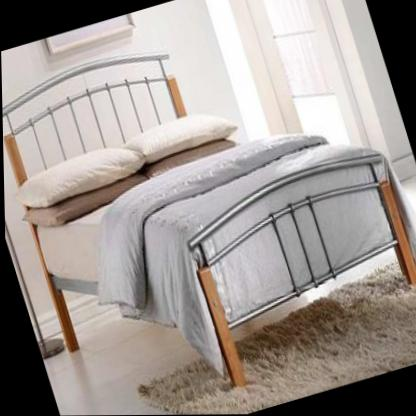Bed: (2, 56, 416, 388)
Carpet: (135, 271, 416, 415)
